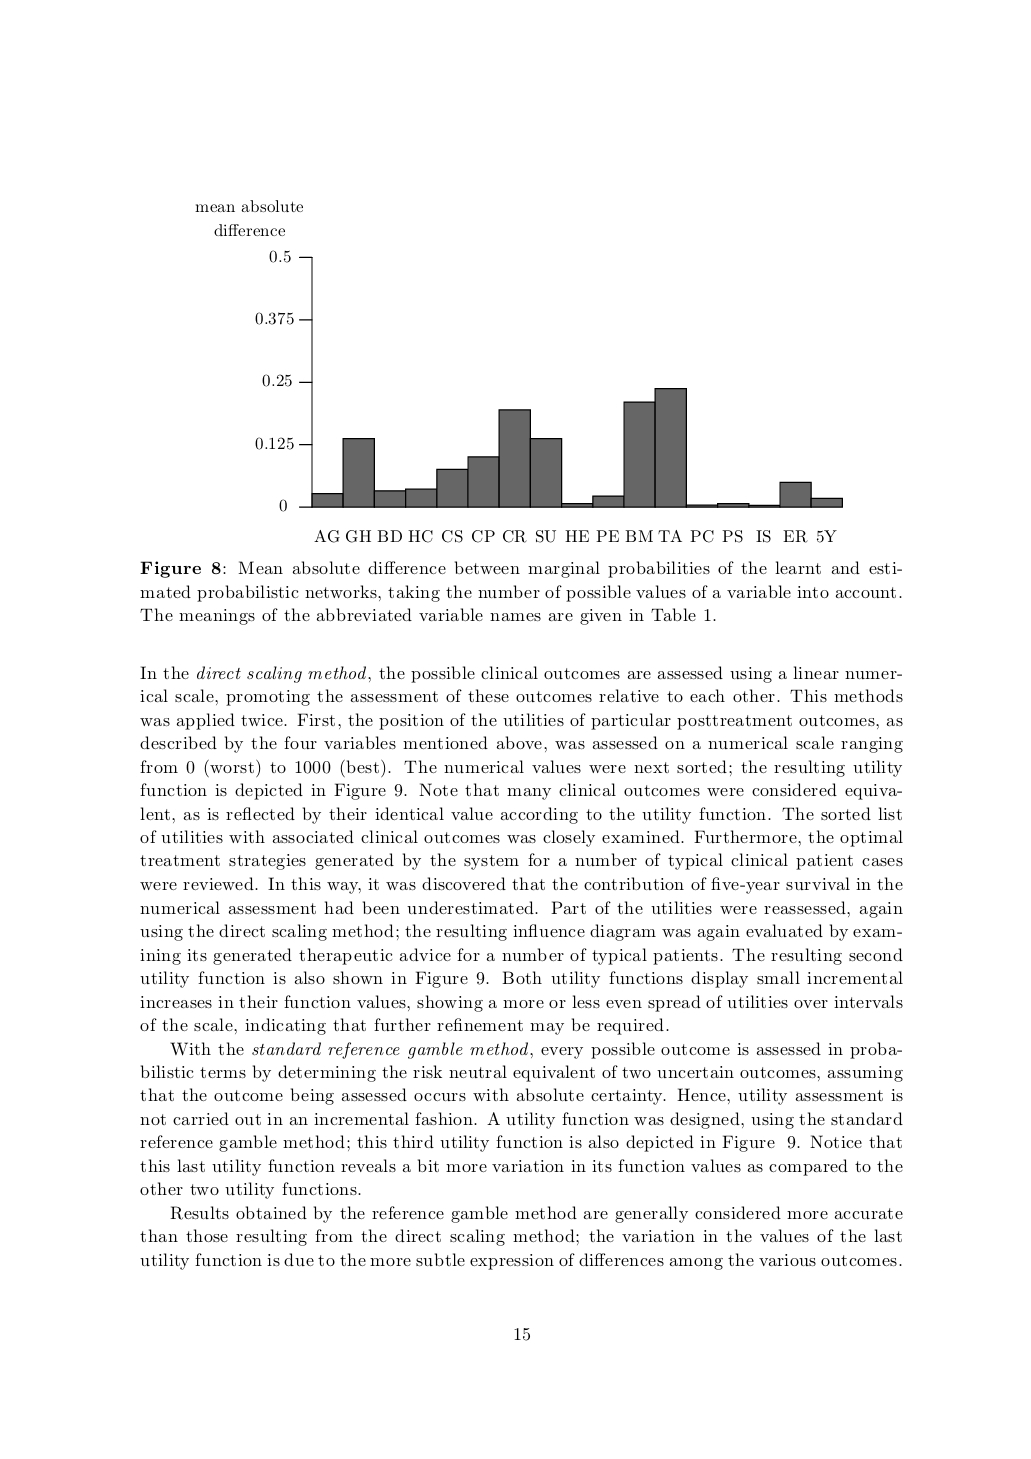figure: (256, 249, 842, 512)
